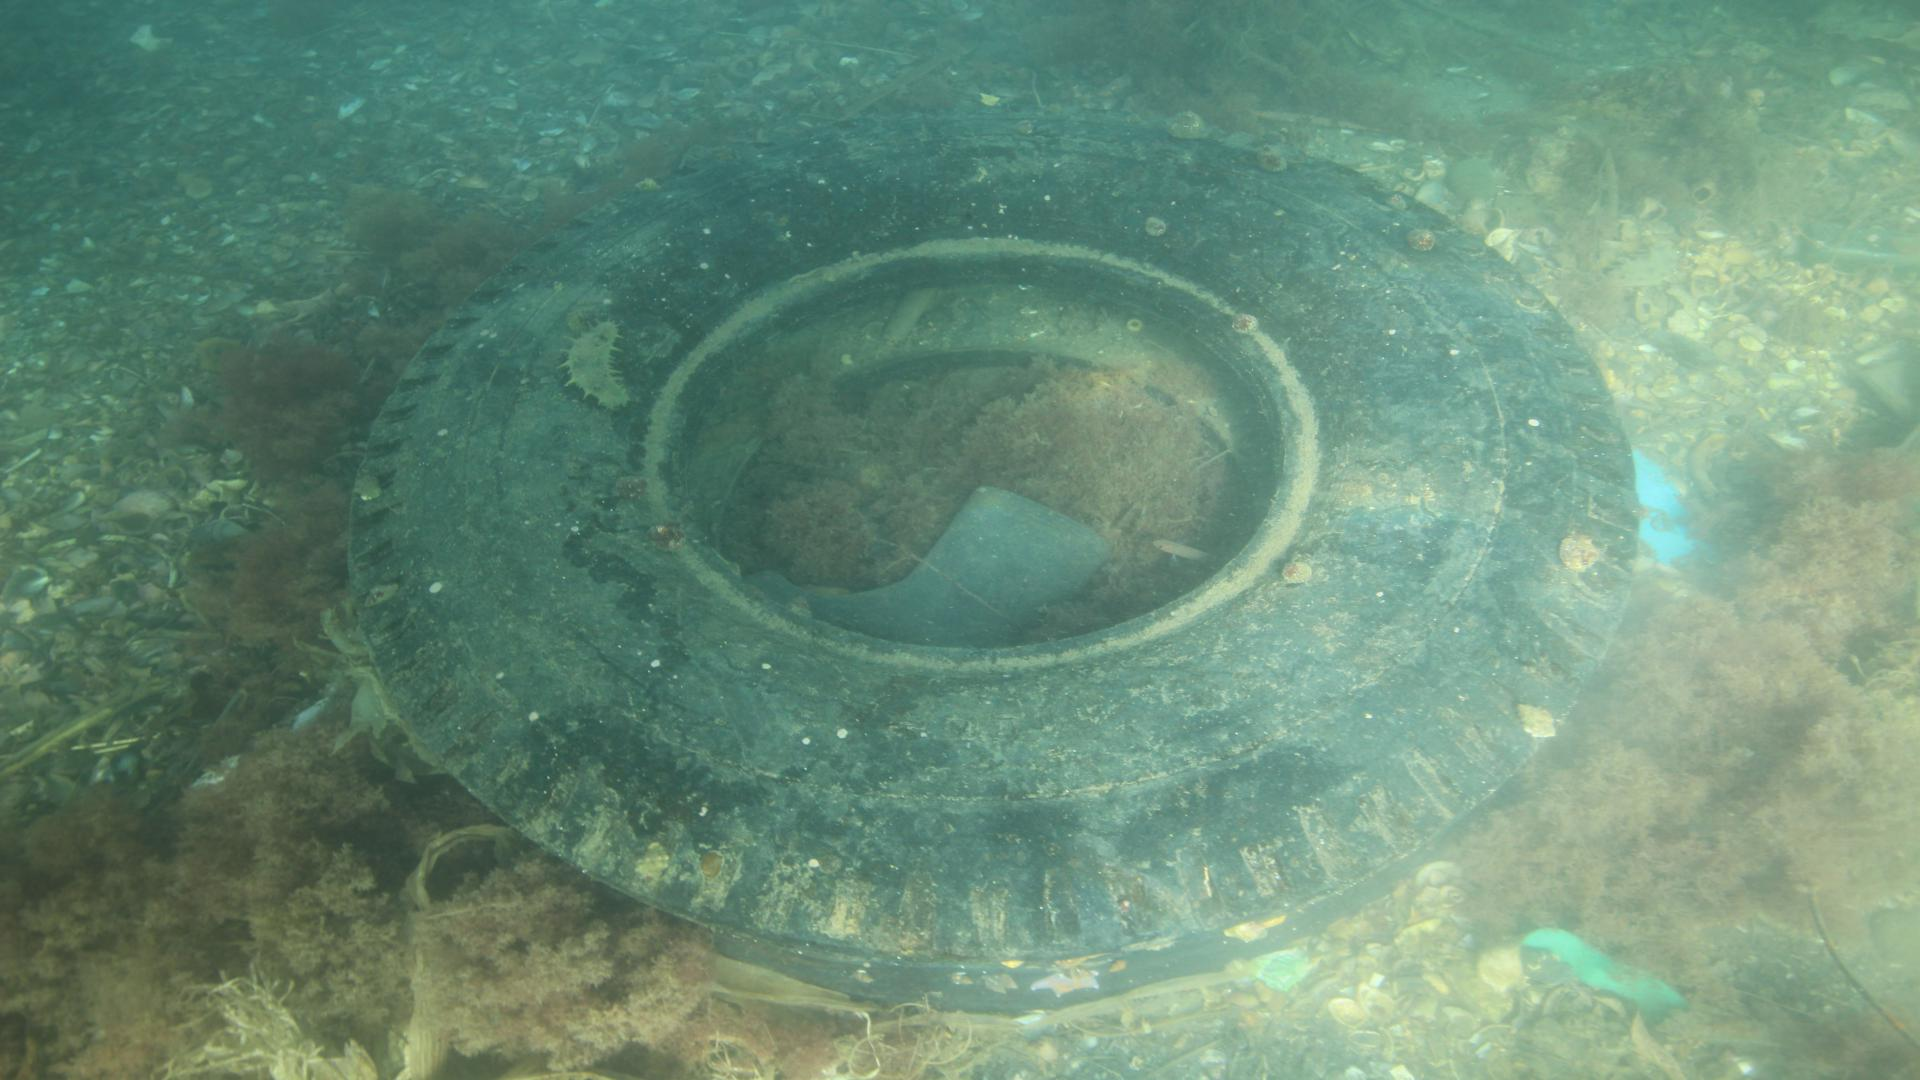tire: (344, 100, 1643, 1013)
